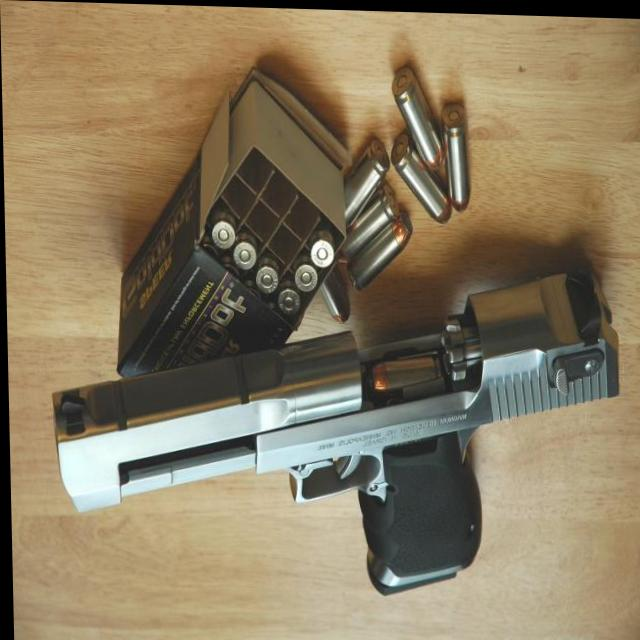handgun: (46, 247, 622, 600)
